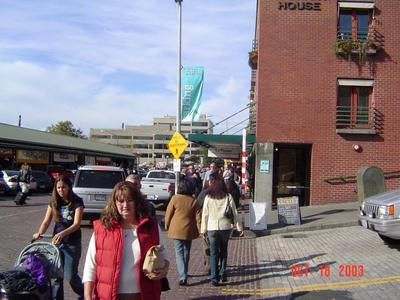person: (163, 180, 201, 286)
